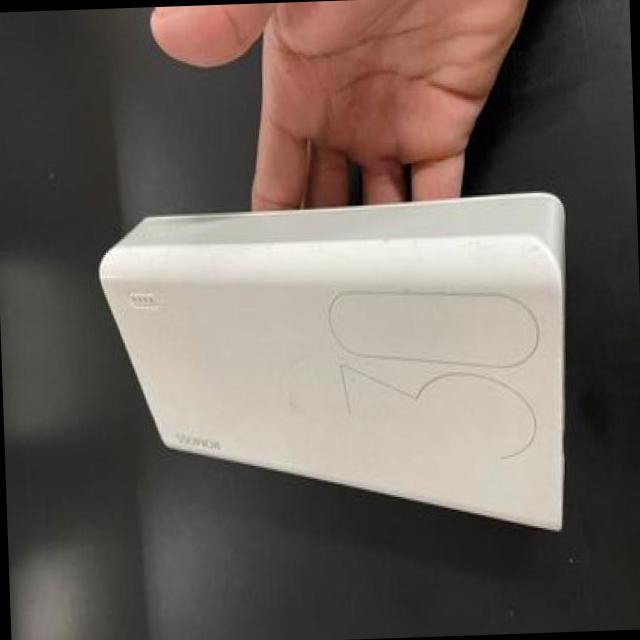portable-charger: (93, 173, 582, 552)
